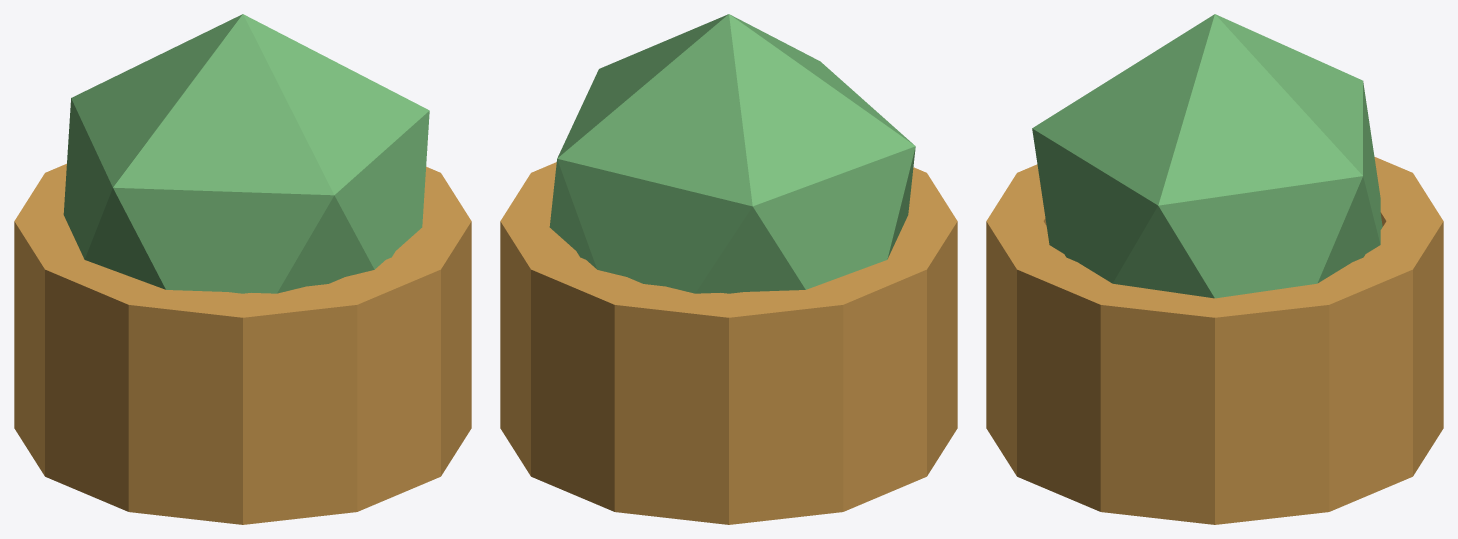
File: plant_2.glb
3 renders of one model, left to right at view 1: azimuth 30°, elevation 25°; view 2: azimuth 150°, elevation 25°; view 3: azimuth 270°, elevation 25°, orthographic.
Parts seen in each view (by area): view 1: Mesh_Mesh_head_geo.001_lambert2SG.001; view 2: Mesh_Mesh_head_geo.001_lambert2SG.001; view 3: Mesh_Mesh_head_geo.001_lambert2SG.001.
Part boxes in pixels (x1,y1,x2,y2): Mesh_Mesh_head_geo.001_lambert2SG.001: [14, 14, 471, 524]; Mesh_Mesh_head_geo.001_lambert2SG.001: [500, 14, 957, 524]; Mesh_Mesh_head_geo.001_lambert2SG.001: [986, 14, 1443, 524].
Bounding box in the file's own units: 1 × 1 × 1.
